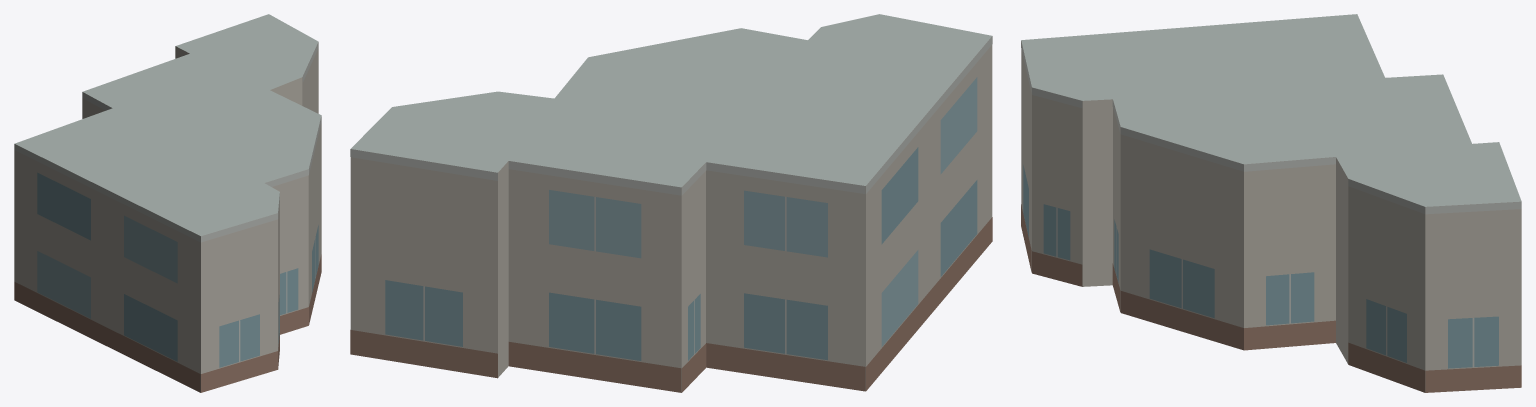
The model's file is survey-upis-32863806.glb.
The picture shows the model from 3 angles, left to right: view 1: azimuth 30°, elevation 25°; view 2: azimuth 150°, elevation 25°; view 3: azimuth 270°, elevation 25°; orthographic projection. The views are drawn at different scales.
Visible parts, largest first — view 1: survey-upis-32863806.tmp; view 2: survey-upis-32863806.tmp; view 3: survey-upis-32863806.tmp.
Boxes of the visible parts, box(x1,y1,x2,y2) form: survey-upis-32863806.tmp: box(14, 14, 321, 392); survey-upis-32863806.tmp: box(350, 14, 992, 392); survey-upis-32863806.tmp: box(1021, 14, 1521, 392).
Bounding box in the file's own units: 13.58 × 6.1 × 14.89.
